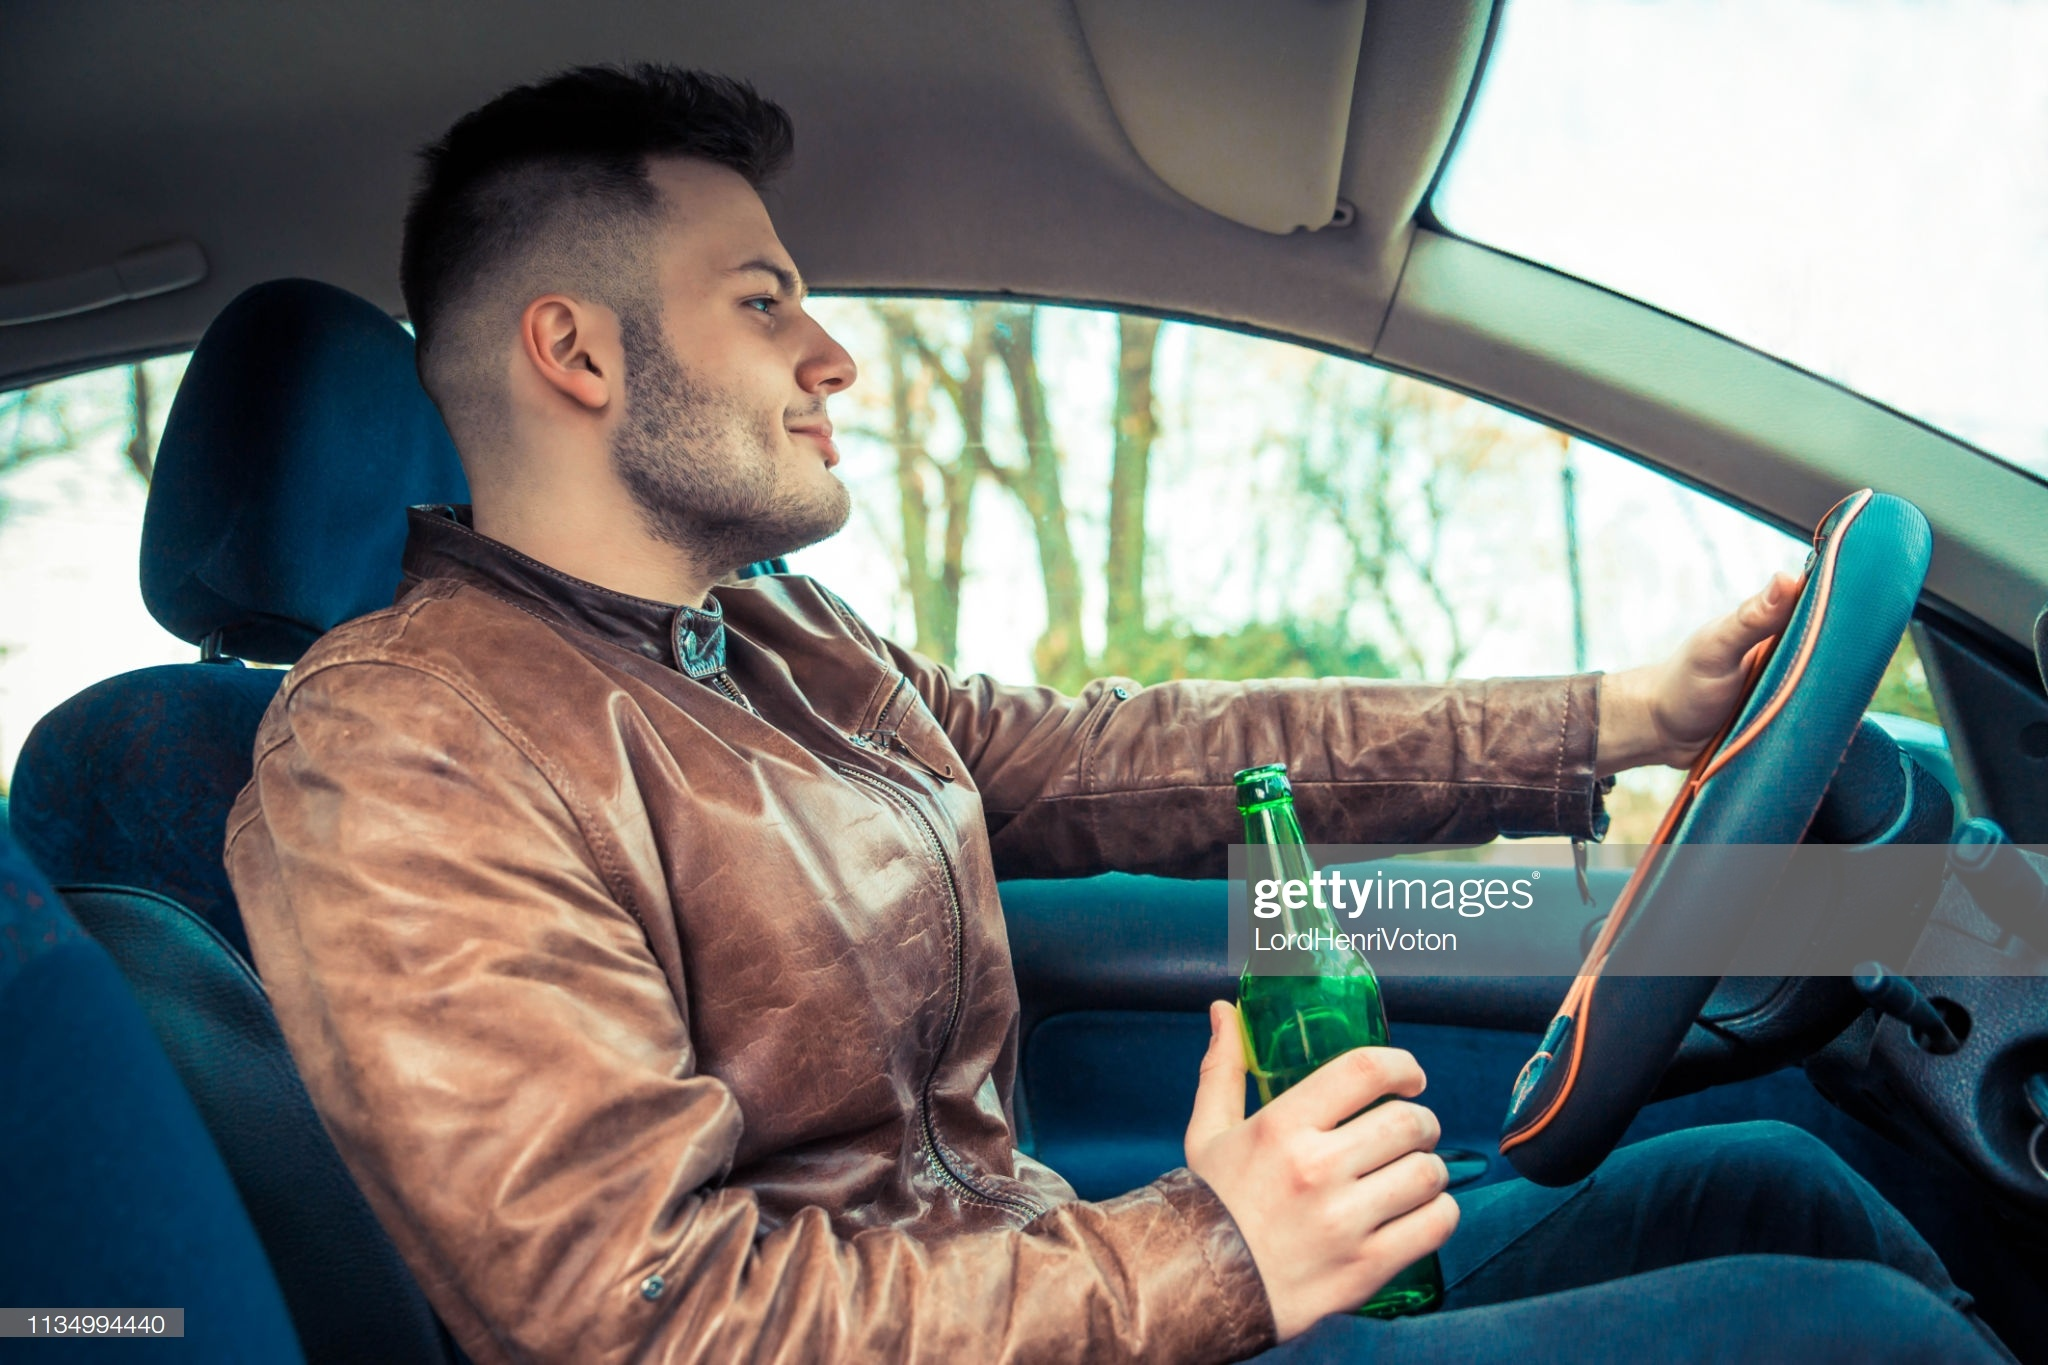beerBottle: (1227, 766, 1437, 1322)
